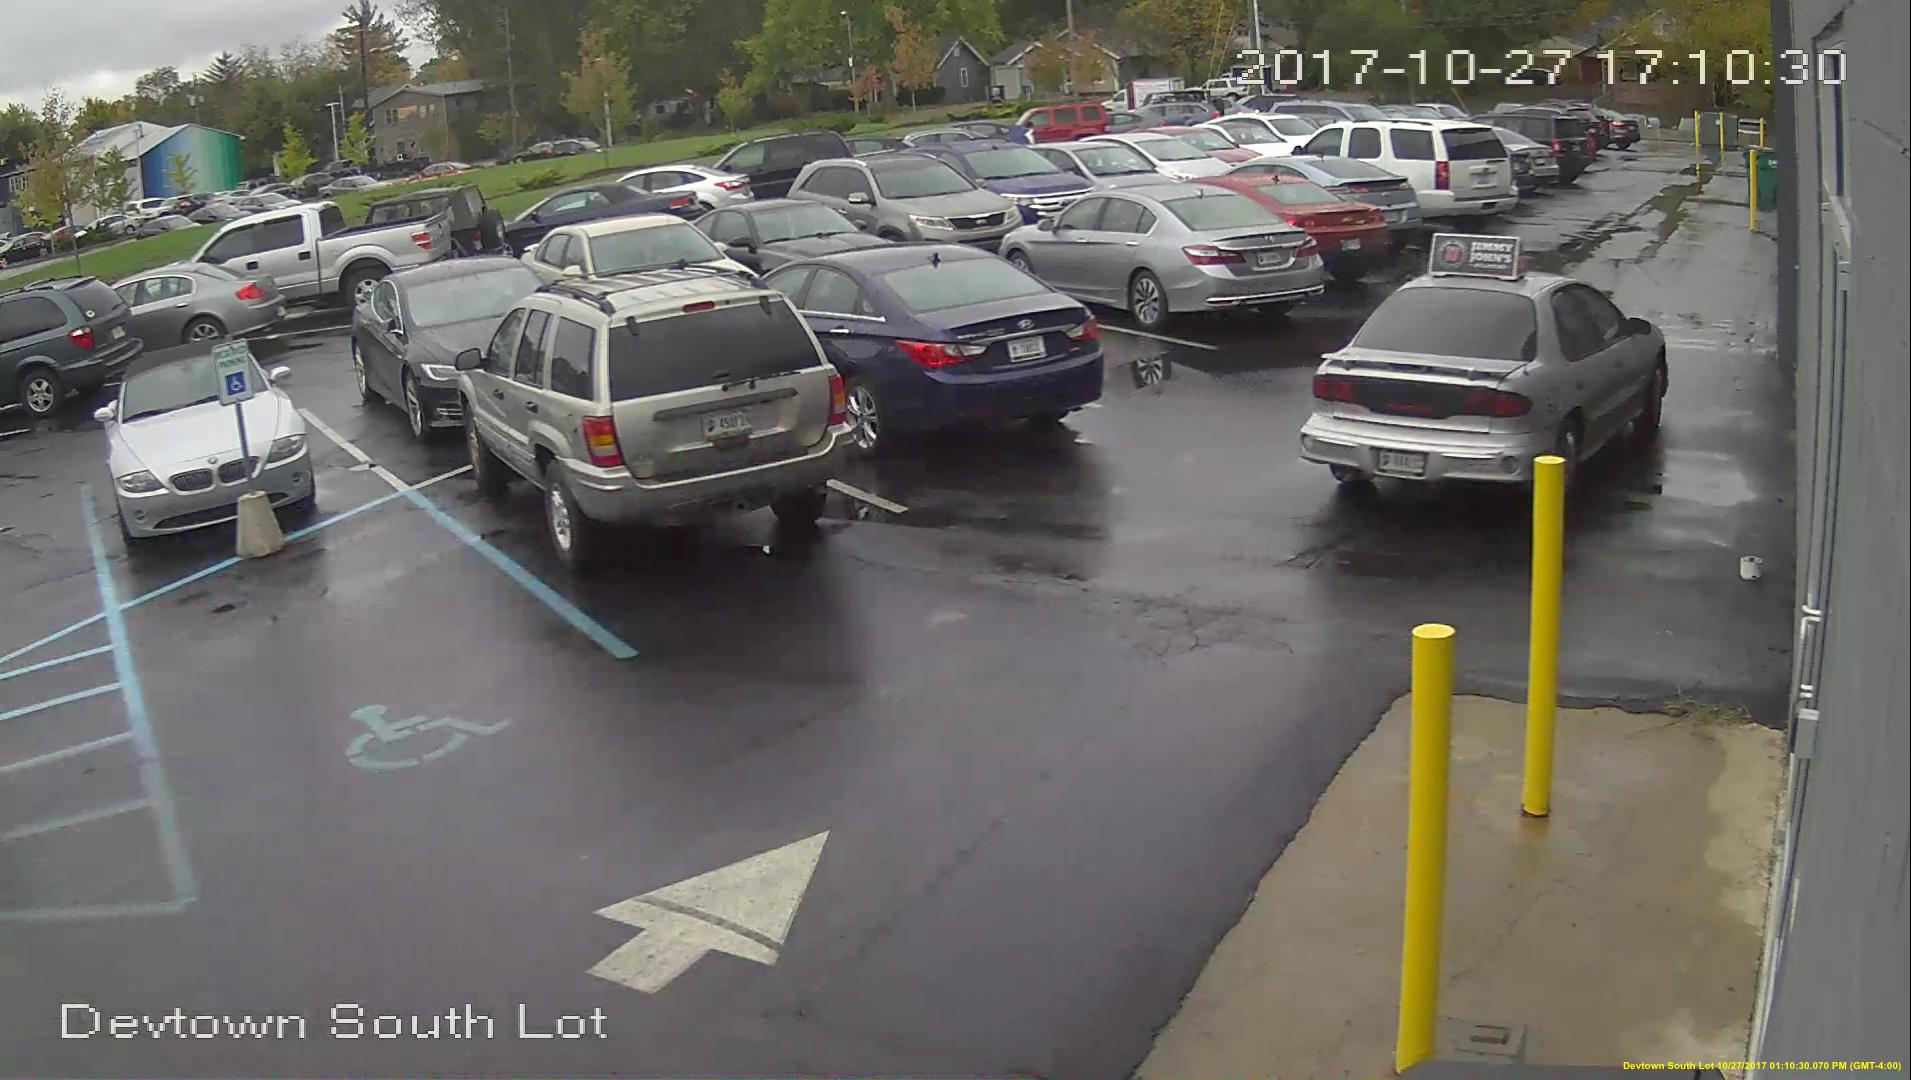jimmy_johns: (1427, 228, 1526, 283)
